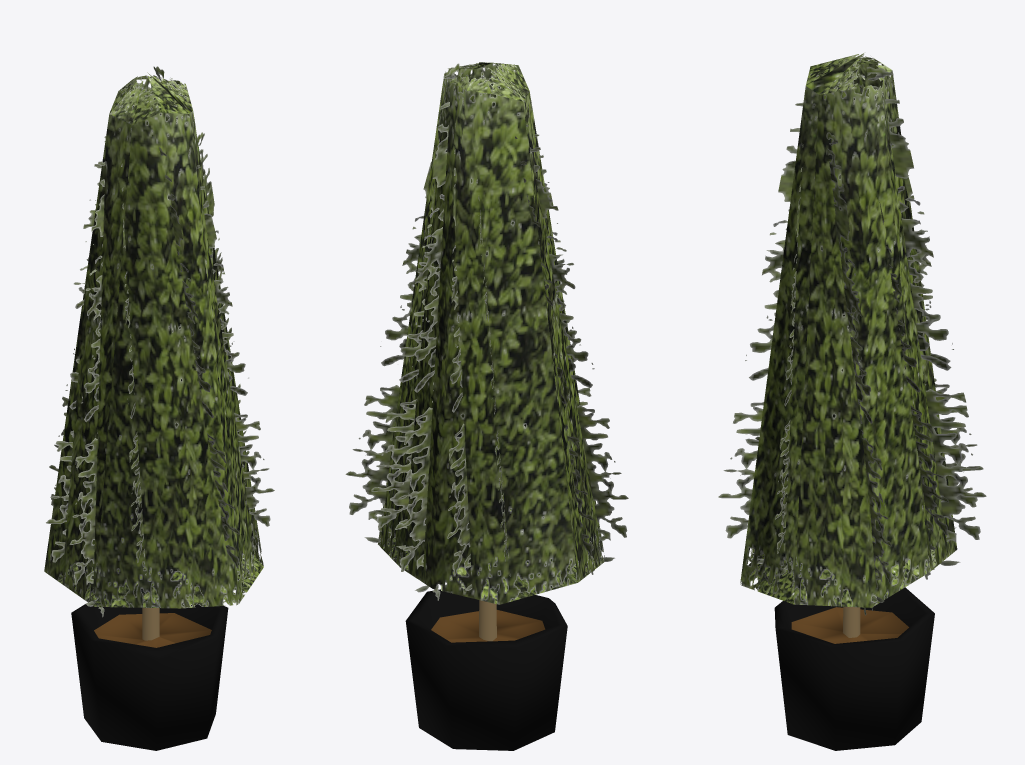
File: Plant_Vertical.fbx
3 renders of one model, left to right at view 1: azimuth 30°, elevation 25°; view 2: azimuth 150°, elevation 25°; view 3: azimuth 270°, elevation 25°, orthographic. The views are drawn at different scales.
Parts seen in each view (by area): view 1: Plant_Vertical.001; view 2: Plant_Vertical.001; view 3: Plant_Vertical.001.
Boxes of the visible parts, box(x1,y1,x2,y2) form: Plant_Vertical.001: box(44, 66, 274, 750); Plant_Vertical.001: box(345, 62, 628, 750); Plant_Vertical.001: box(718, 53, 986, 750).
Size of the model in its own units: 41.46 by 100 by 39.38.
Materials: 4 (1 with a texture image).
